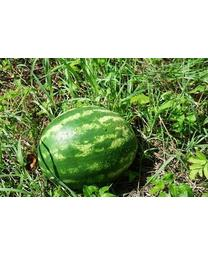watermelon: (38, 108, 140, 187)
